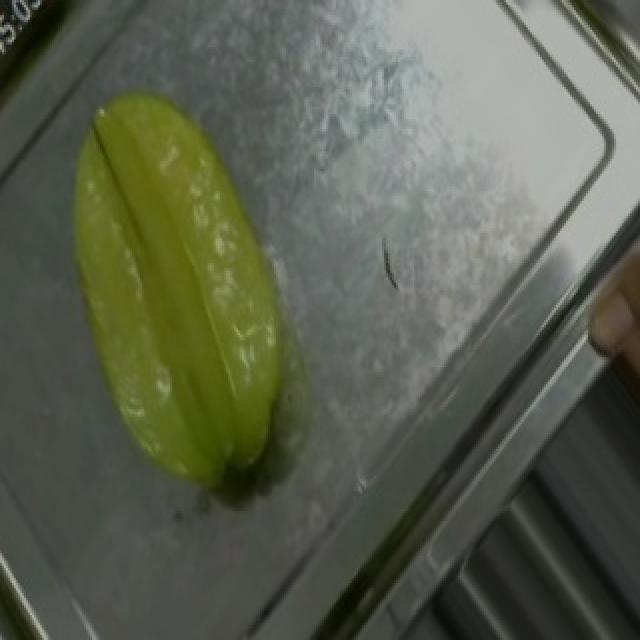fruit: (2, 47, 356, 462)
